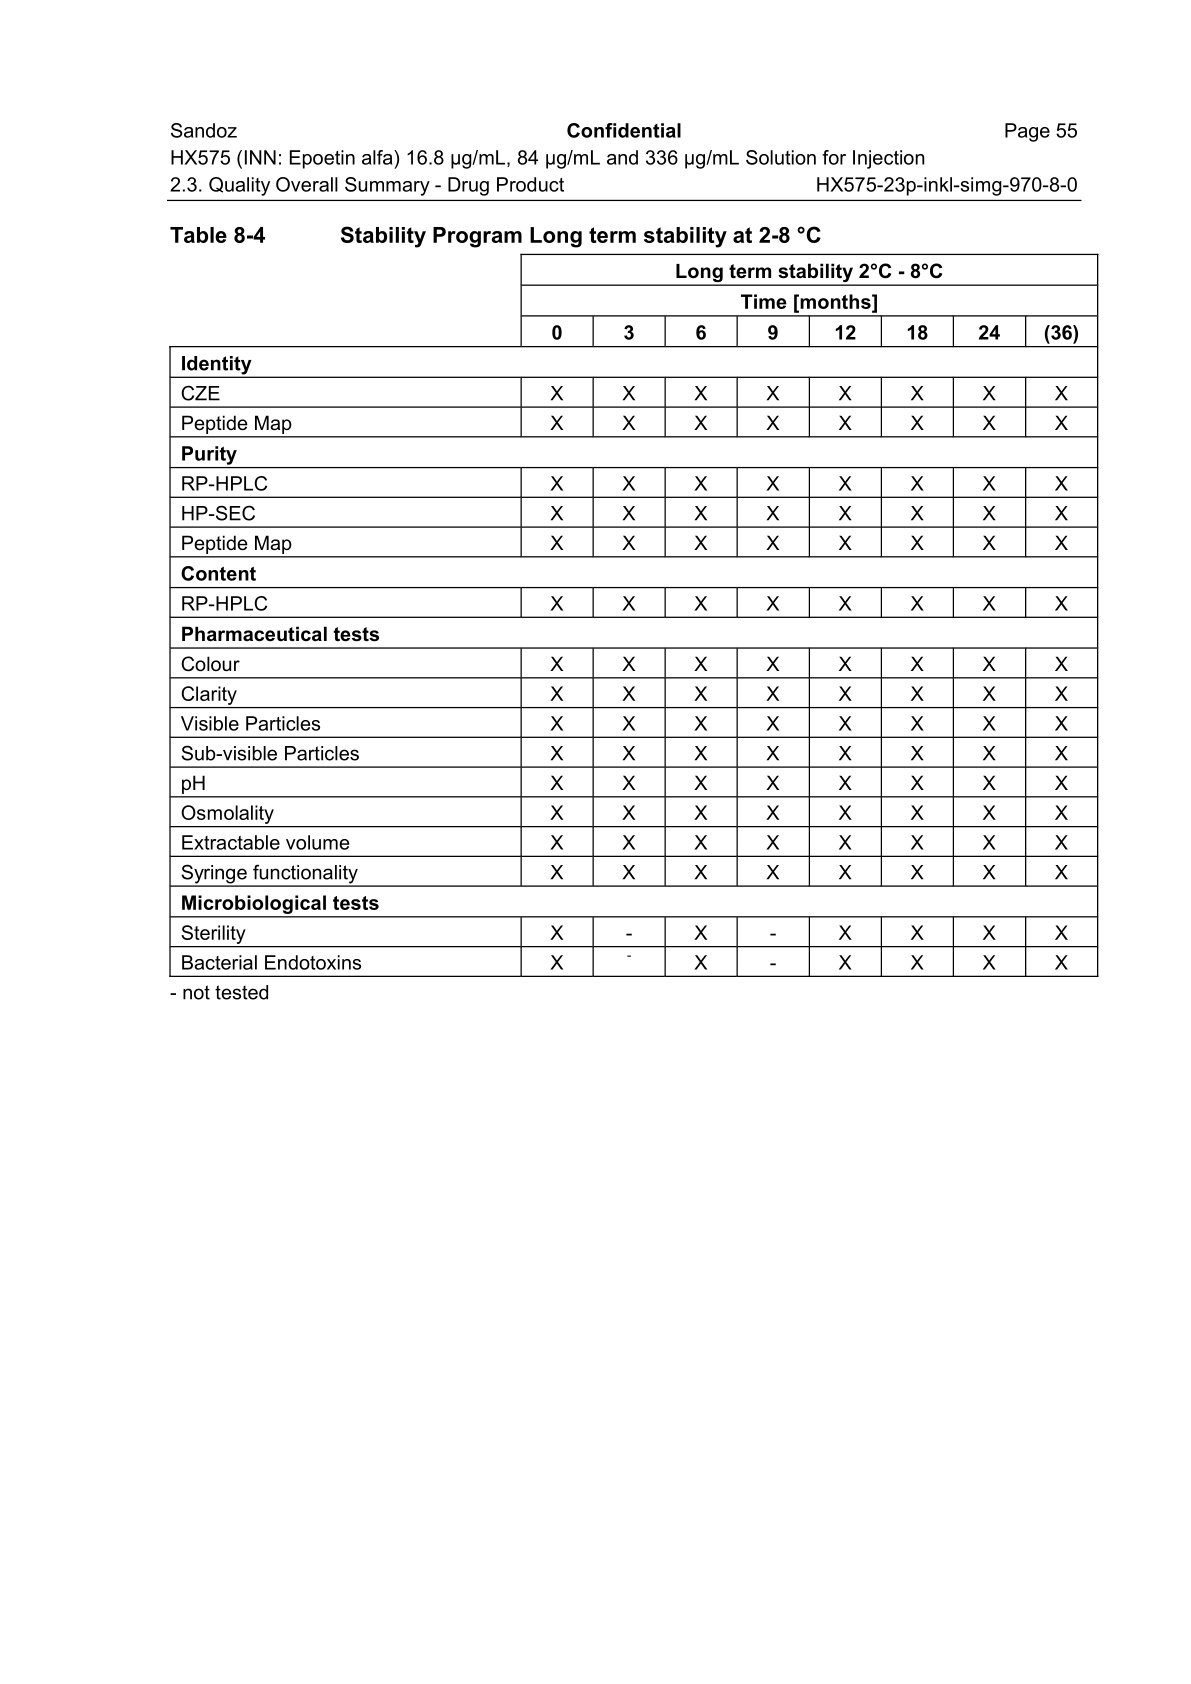merged_cells: (168, 253, 1099, 977)
